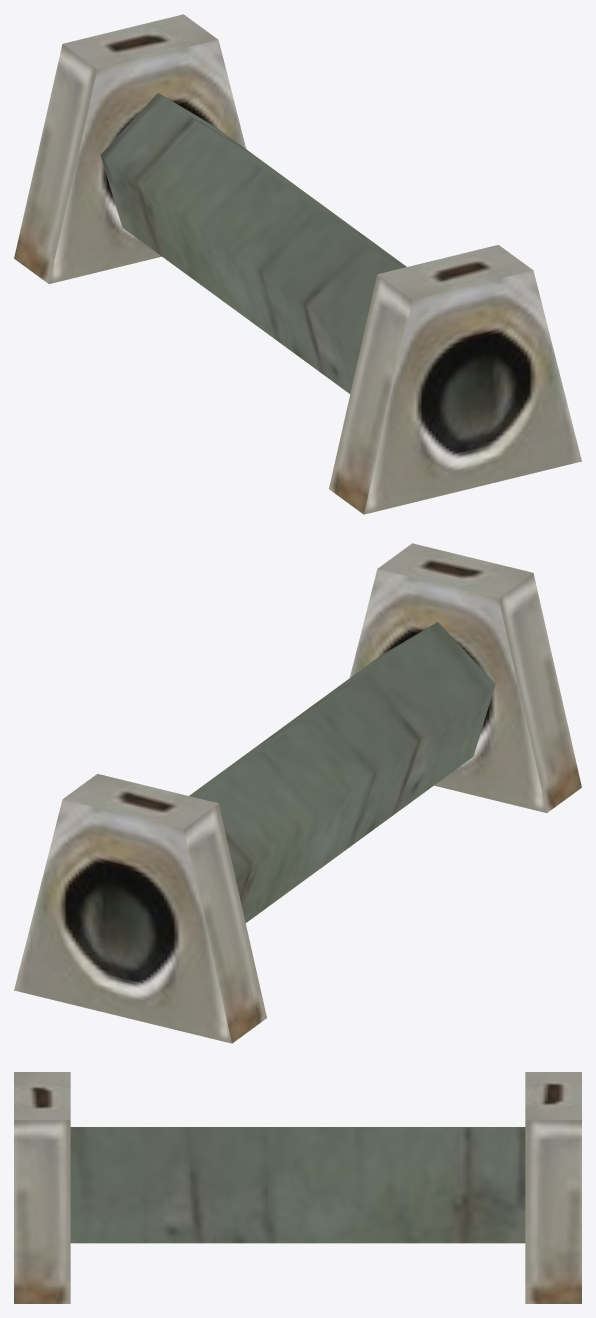
File: straightpipe1_hdtex.glb
The picture shows the model from 3 angles, top to bottom: view 1: azimuth 30°, elevation 25°; view 2: azimuth 150°, elevation 25°; view 3: azimuth 270°, elevation 25°; orthographic projection. The views are drawn at different scales.
Parts seen in each view (by area): view 1: Straight1; view 2: Straight1; view 3: Straight1.
Part boxes in pixels (x1,y1,x2,y2): Straight1: [14, 14, 581, 514]; Straight1: [14, 543, 581, 1043]; Straight1: [14, 1072, 581, 1303].
Size of the model in its own units: 3.07 by 2.73 by 8.52.
1 material, 1 textured.
